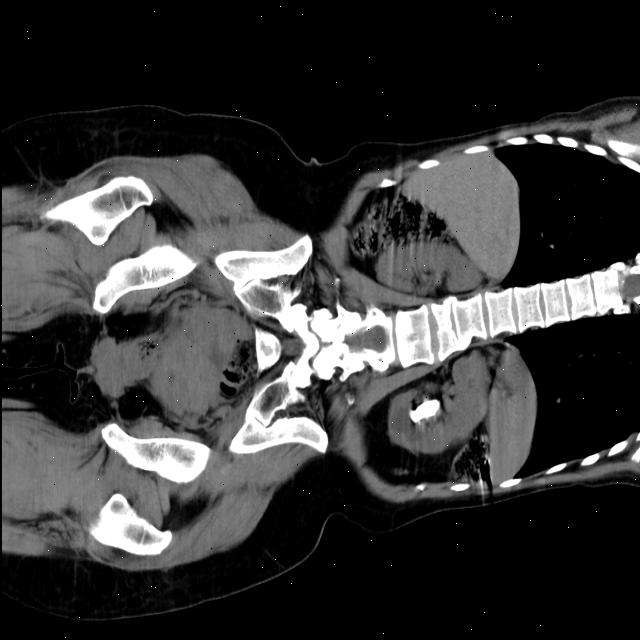kidneystone: (409, 400, 439, 422)
